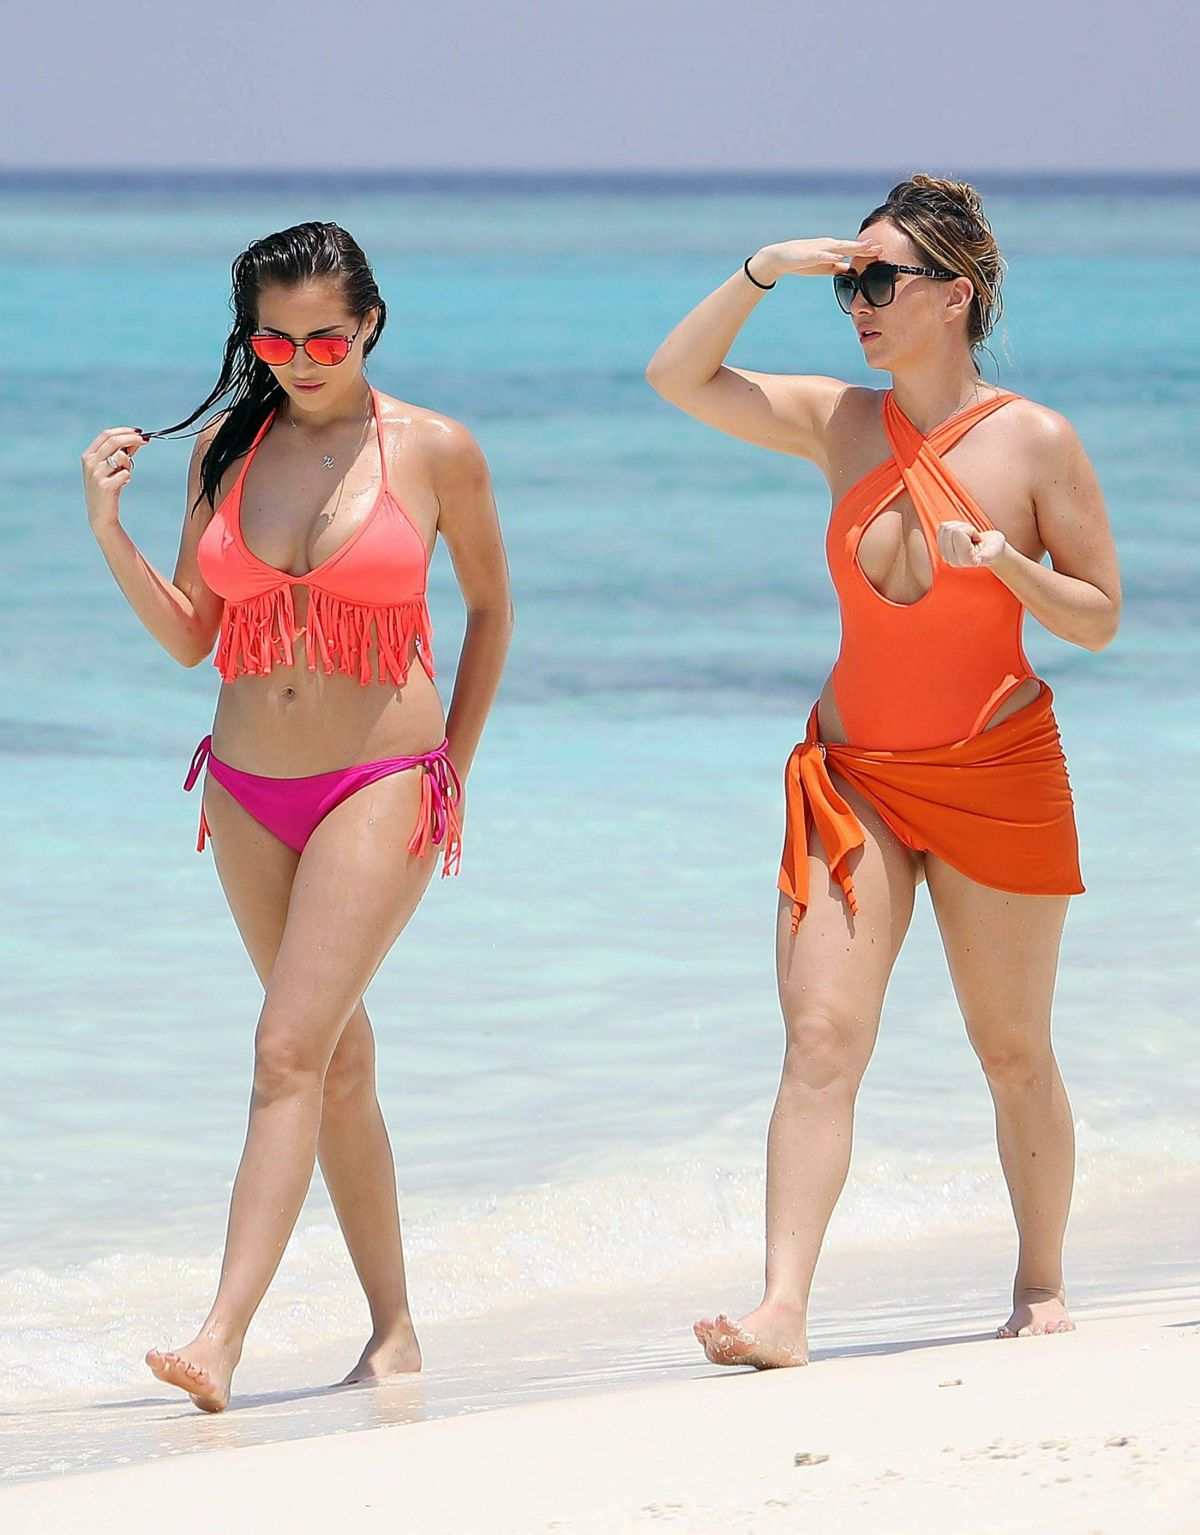Person: (56, 197, 556, 1442), (631, 180, 1126, 1387)
